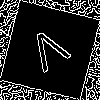V: (25, 25, 77, 82)
